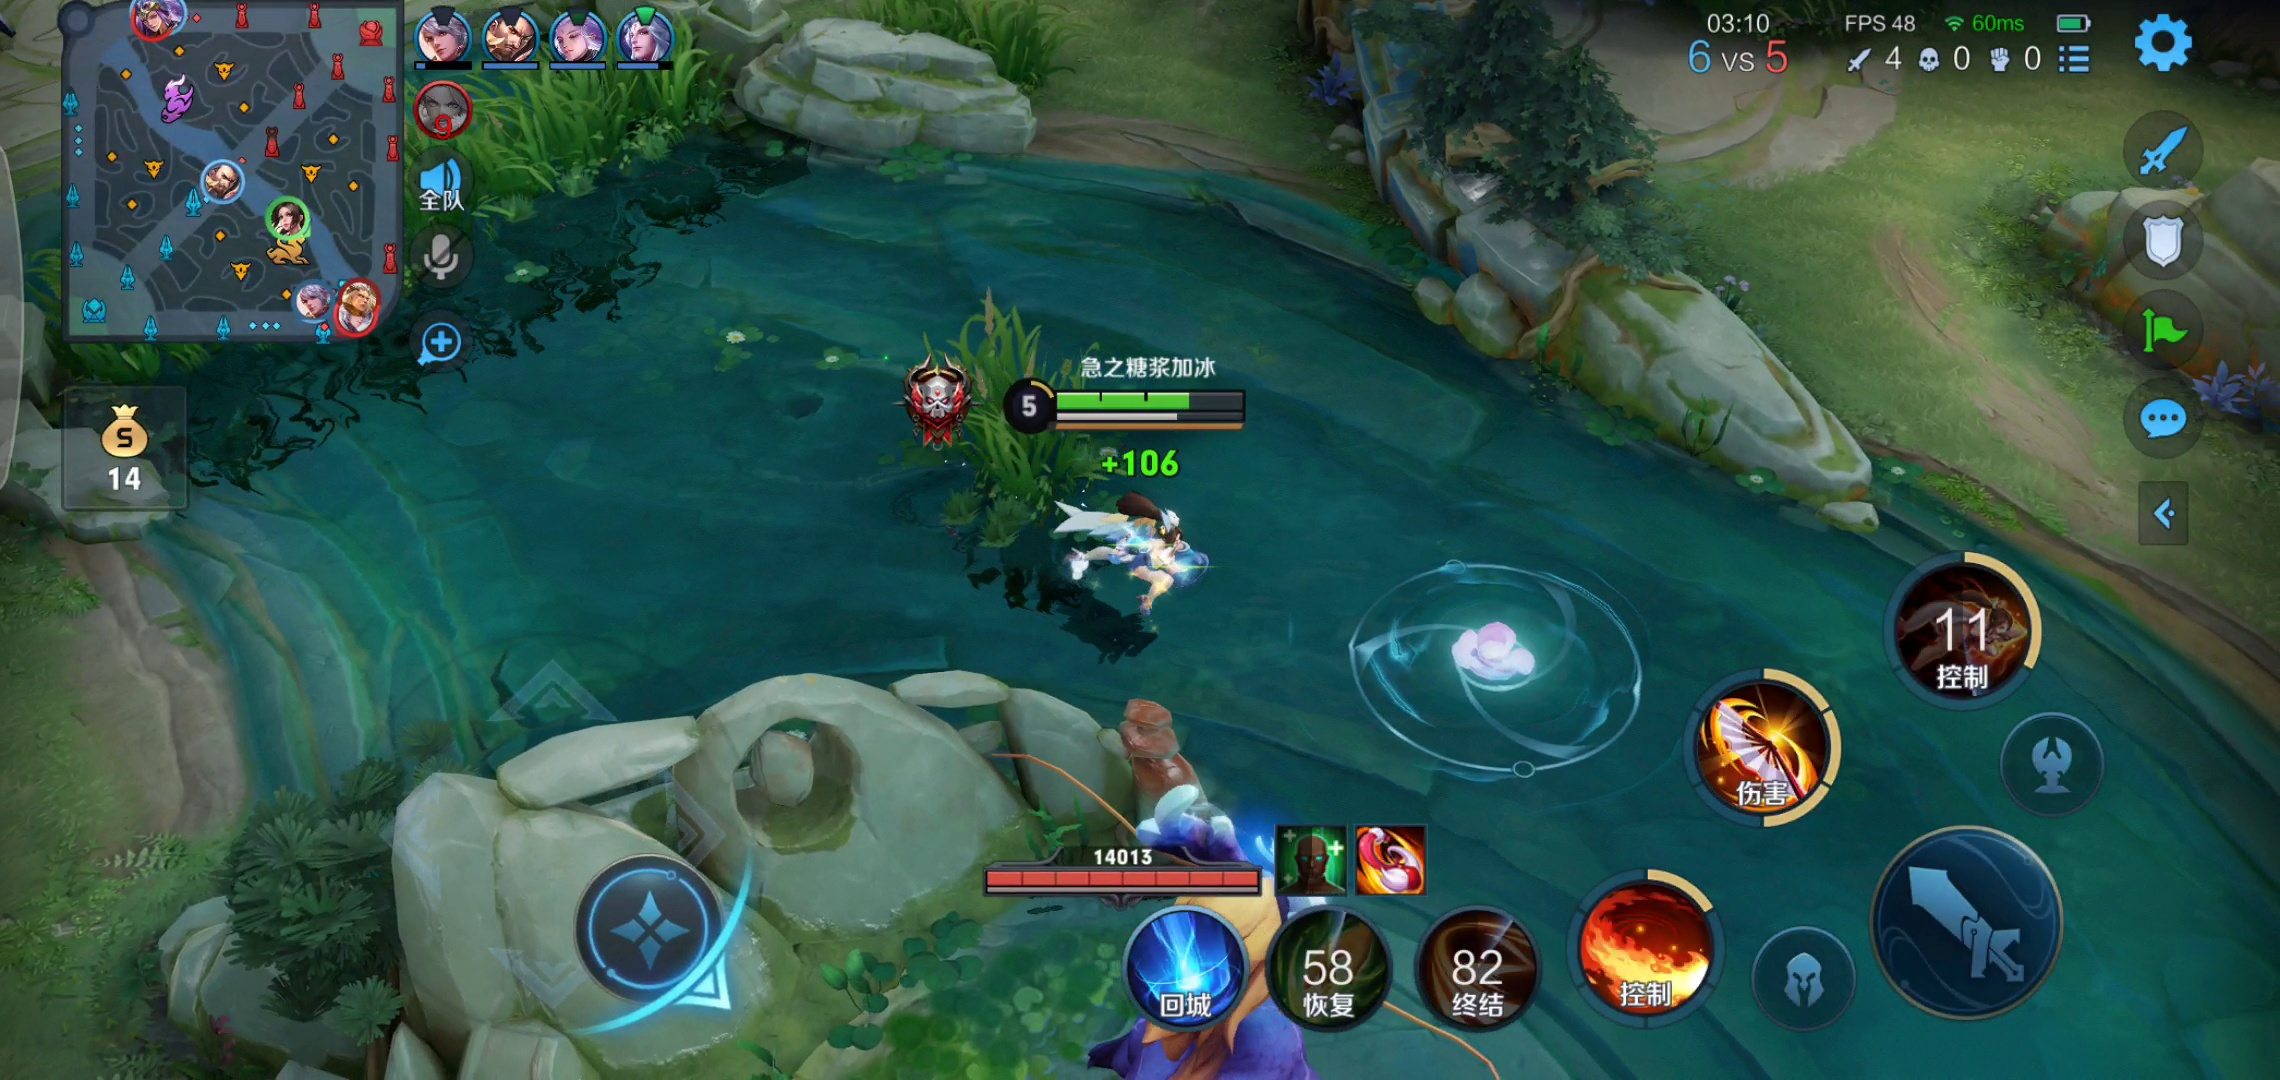dragon: (947, 776, 1477, 1076)
grass: (33, 48, 718, 417), (919, 307, 1108, 517), (856, 1, 1075, 94)
hero: (1064, 490, 1211, 632)
